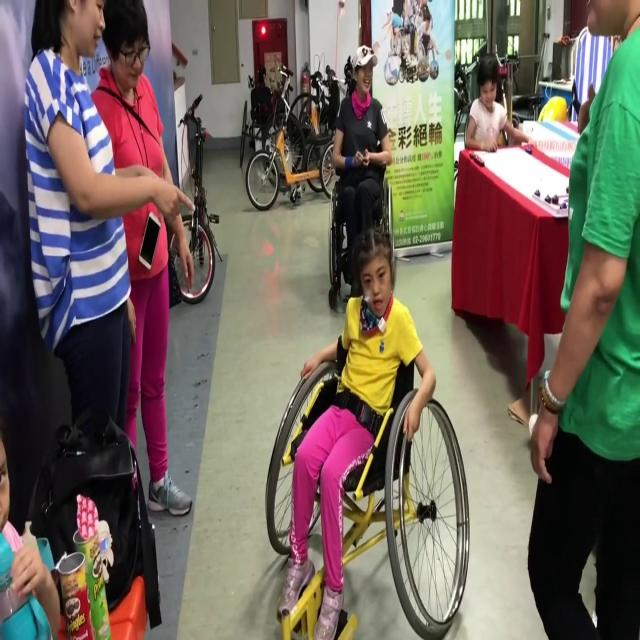wheelchairs: (249, 313, 499, 640)
